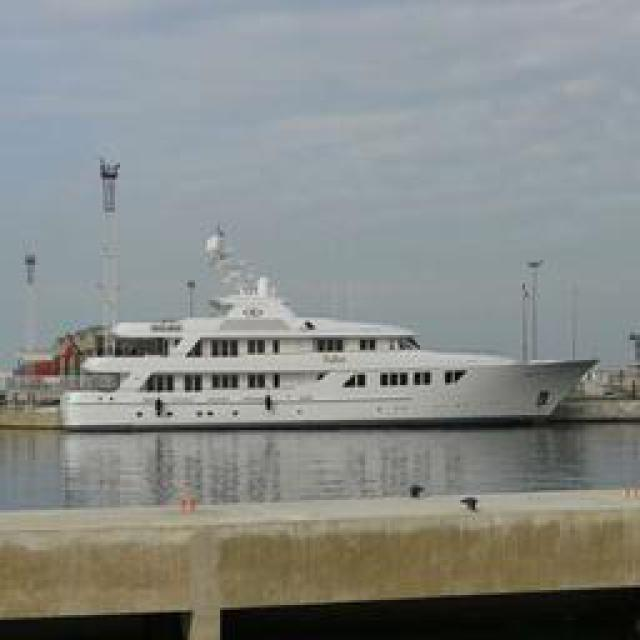Ship: (59, 235, 604, 430)
